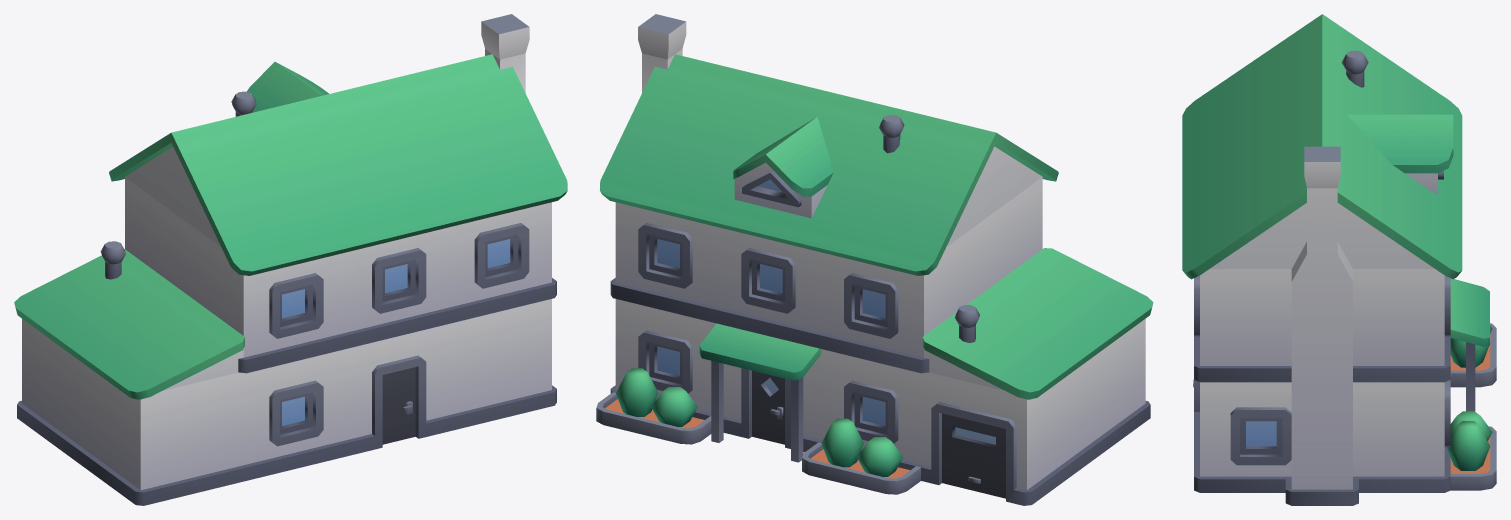
Rendered from house-d.glb.
3 views of the same model, side by side, from view 1: azimuth 30°, elevation 25°; view 2: azimuth 150°, elevation 25°; view 3: azimuth 270°, elevation 25° (orthographic). The views are drawn at different scales.
Visible parts, largest first — view 1: building-type-d; view 2: building-type-d; view 3: building-type-d.
Part boxes in pixels (bbox=[...]): building-type-d: bbox=[14, 14, 567, 505]; building-type-d: bbox=[596, 14, 1153, 505]; building-type-d: bbox=[1182, 14, 1496, 505].
Size of the model in its own units: 1.76 by 1.24 by 1.03.
Materials: 1 (1 with a texture image).
